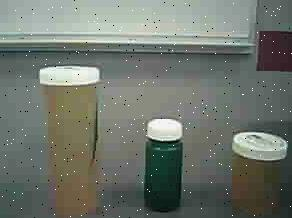Bottle A: (35, 61, 118, 218)
Bottle B: (227, 128, 292, 218)
Bottle C: (139, 113, 198, 218)
